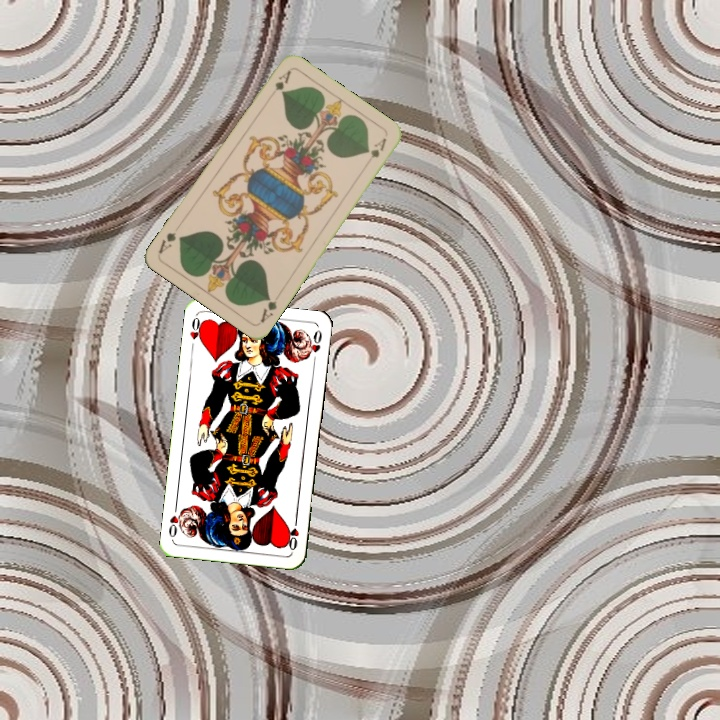GA: (265, 66, 293, 102), (256, 293, 280, 326)
HO: (186, 312, 206, 353), (284, 513, 302, 553)
